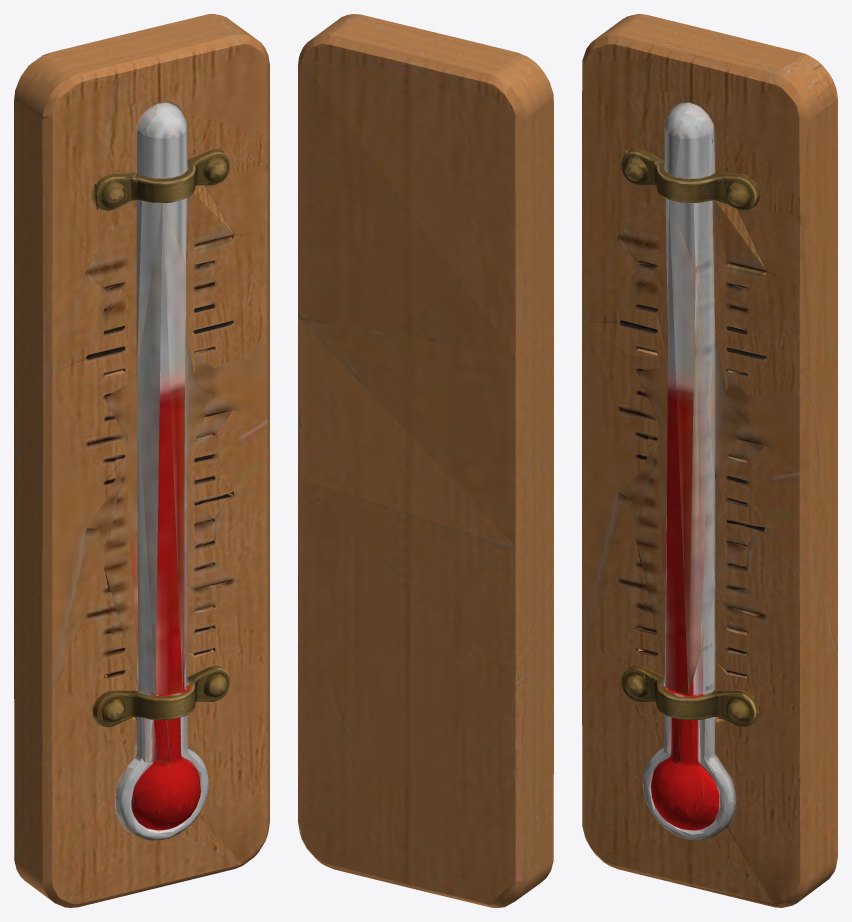
Rendered from thermometer.glb.
The picture shows the model from 3 angles, left to right: view 1: azimuth 30°, elevation 25°; view 2: azimuth 150°, elevation 25°; view 3: azimuth 330°, elevation 25°; orthographic projection.
Parts seen in each view (by area): view 1: output_unwrapped; view 2: output_unwrapped; view 3: output_unwrapped.
Boxes of the visible parts, left/top/right/bottom form: output_unwrapped: left=14, top=14, right=269, bottom=907; output_unwrapped: left=298, top=14, right=553, bottom=907; output_unwrapped: left=582, top=14, right=837, bottom=907.
Bounding box in the file's own units: 0.5431 × 1.9 × 0.231.
1 material, 1 textured.
